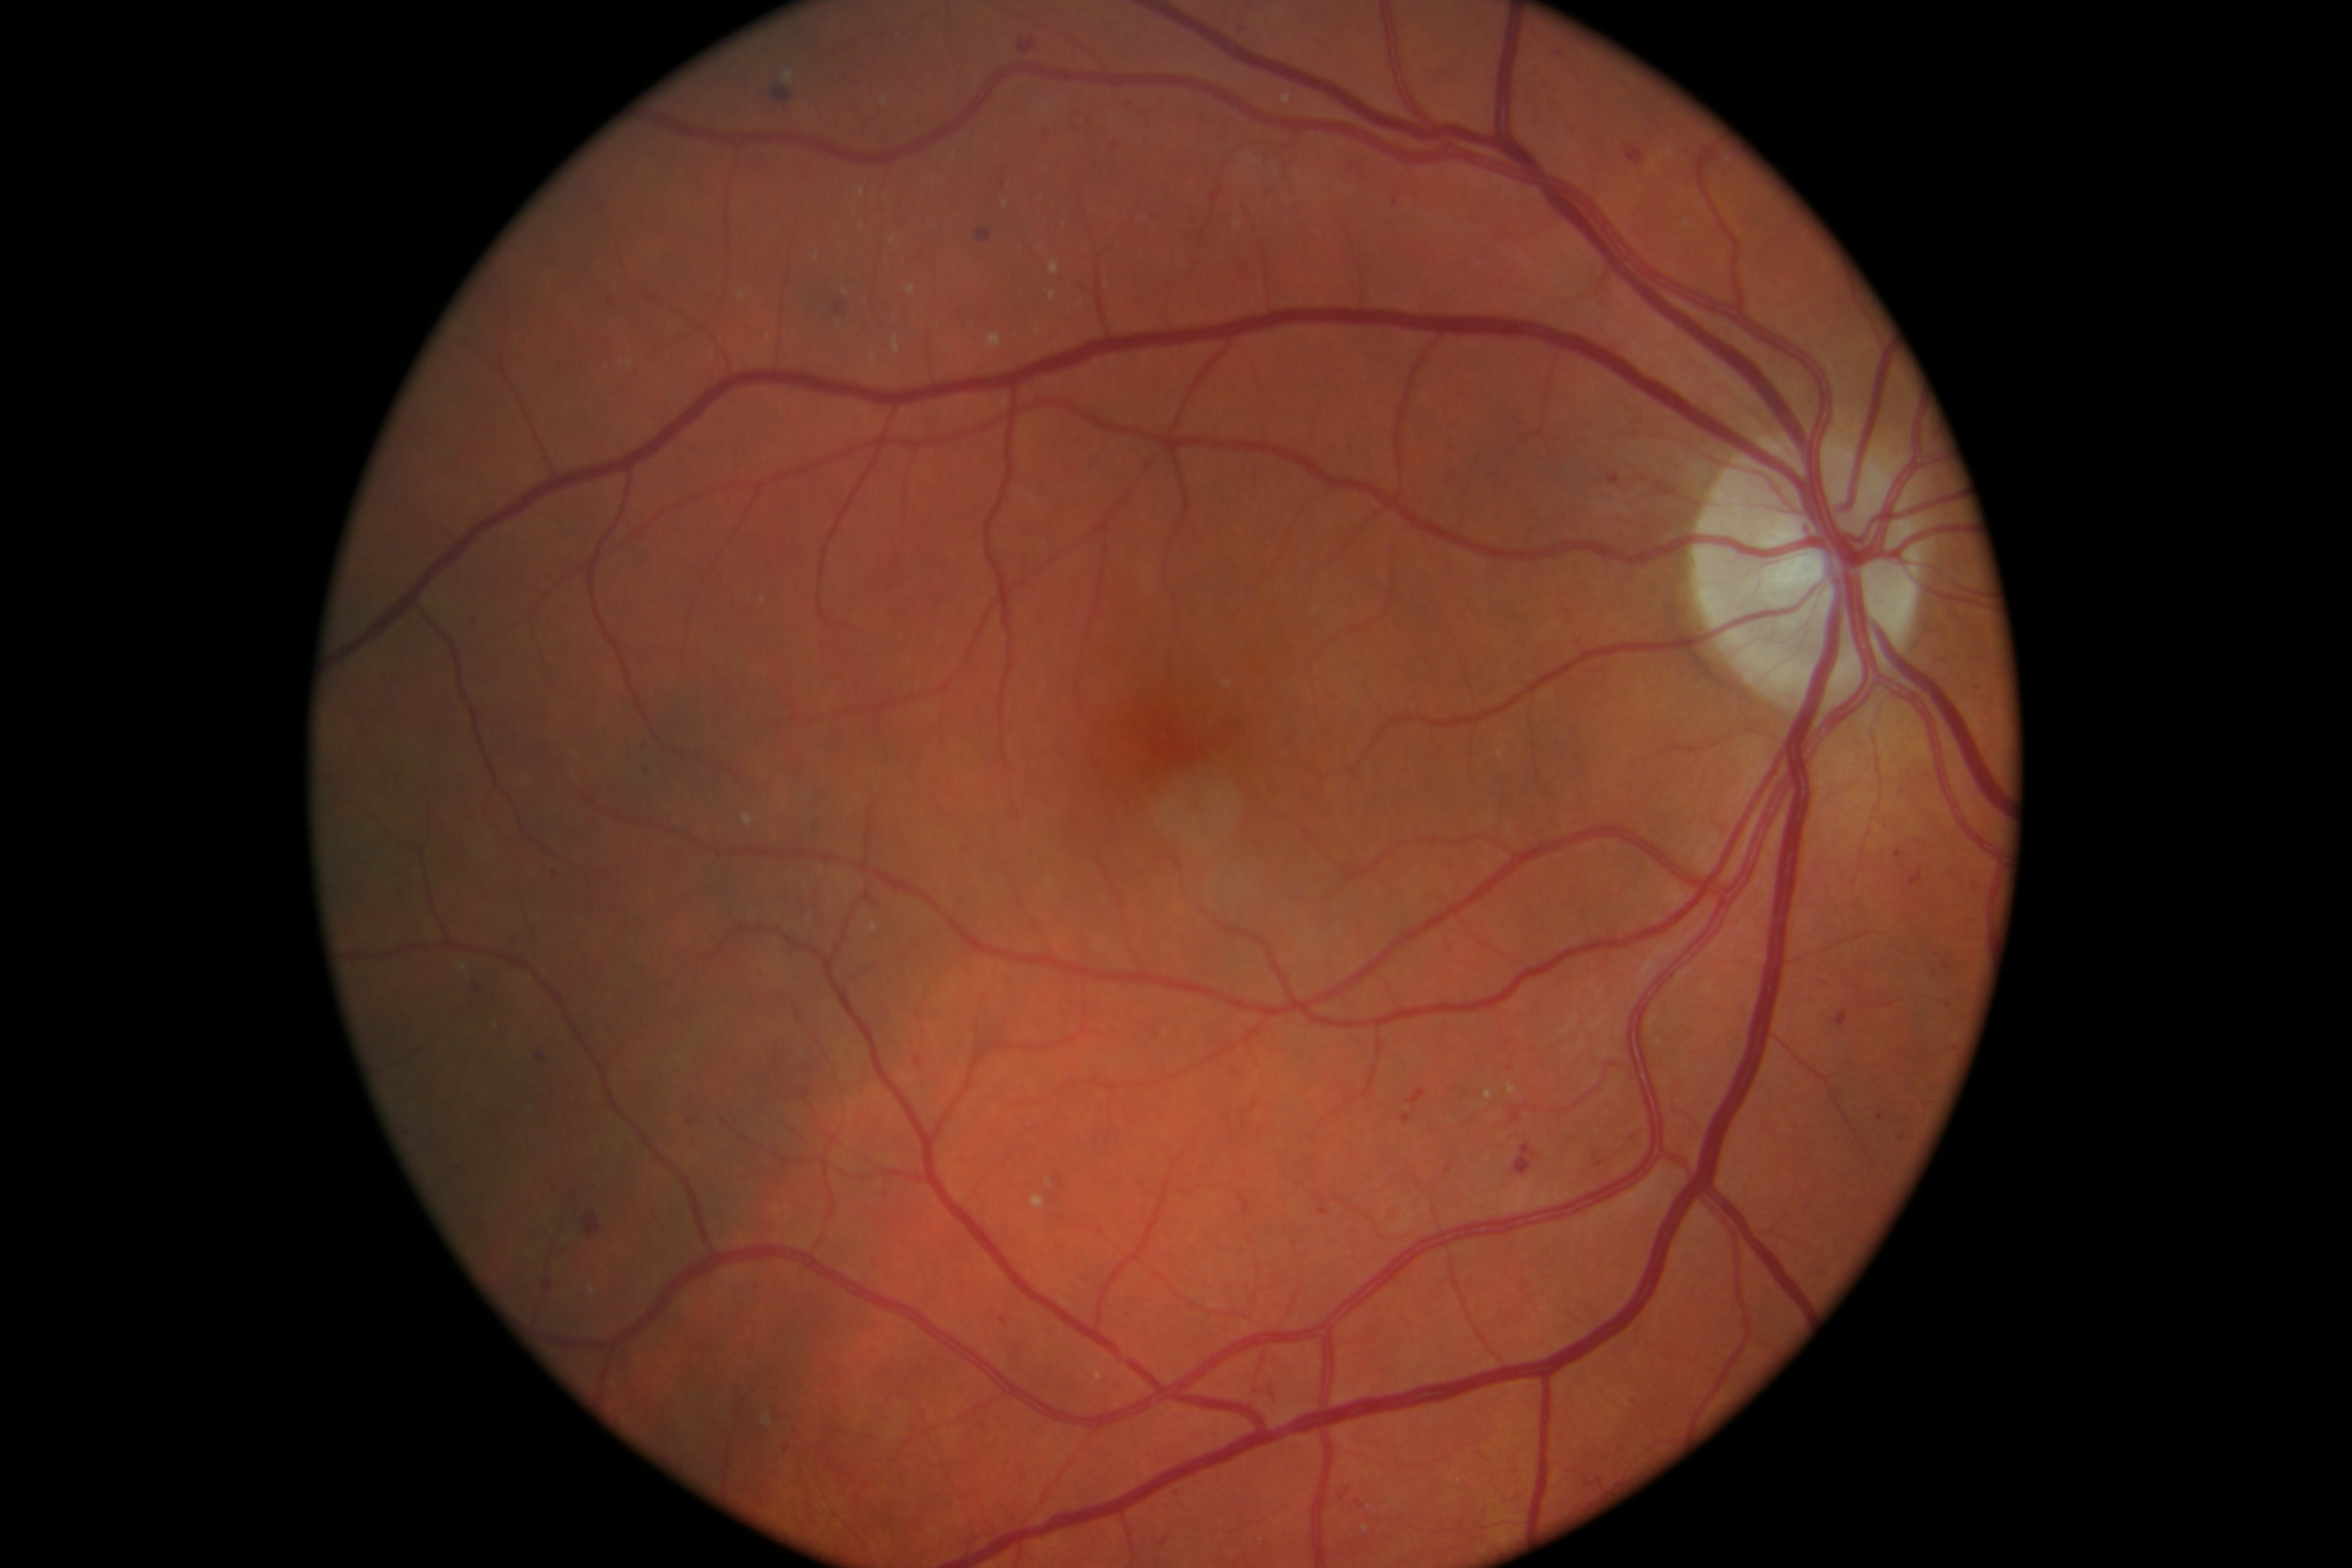Fovea: (1066, 653, 1286, 856)
OD: (1662, 413, 1946, 731)
